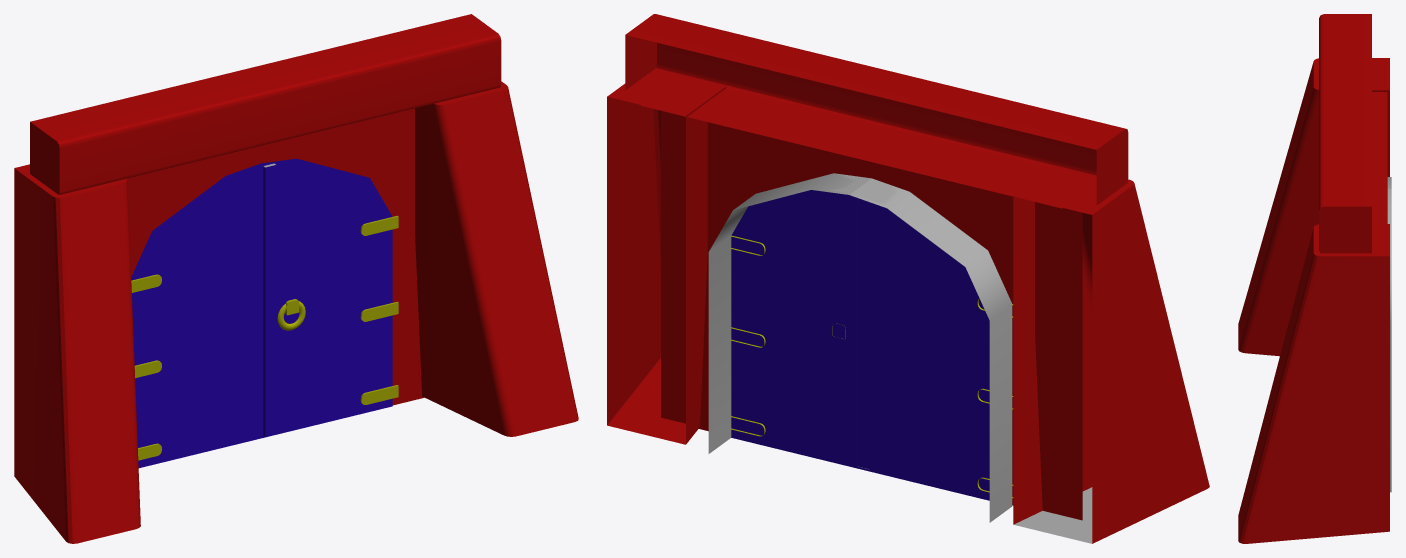
Rendered from FinalGate.fbx.
3 views of the same model, side by side, from view 1: azimuth 30°, elevation 25°; view 2: azimuth 150°, elevation 25°; view 3: azimuth 270°, elevation 25° (orthographic). The views are drawn at different scales.
Visible parts, largest first — view 1: FinalGate; view 2: FinalGate; view 3: FinalGate.
Boxes of the visible parts, x1,y1,x2,y2 form: FinalGate: [14, 14, 578, 543]; FinalGate: [607, 14, 1209, 543]; FinalGate: [1238, 14, 1391, 543].
Bounding box in the file's own units: 1388 × 943 × 404.
